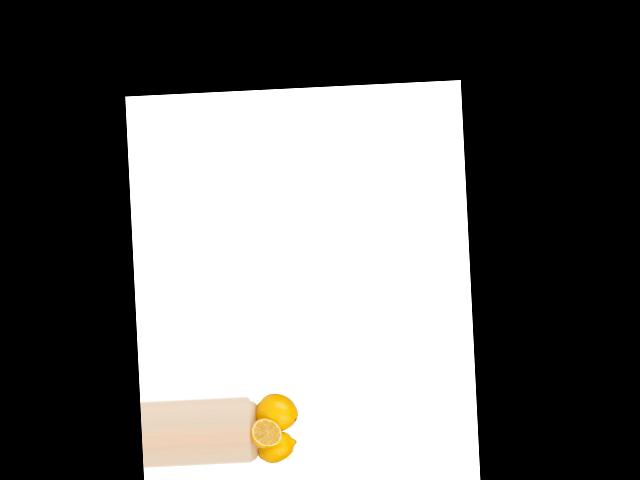lemon: (252, 430, 298, 465)
